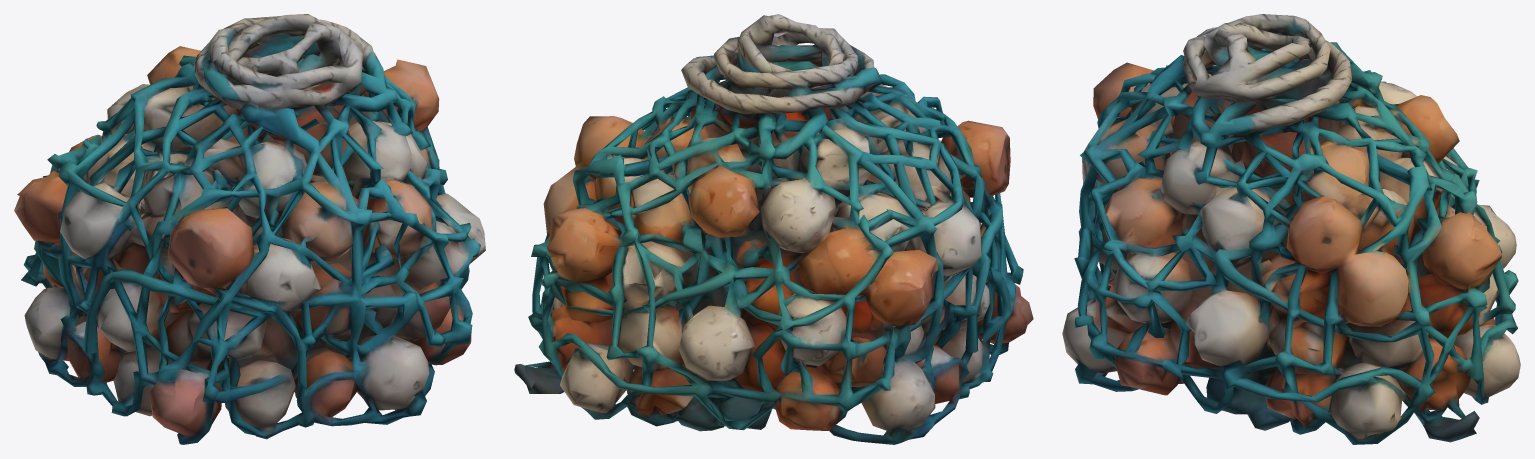
The model's file is prop-netpile.glb.
3 renders of one model, left to right at view 1: azimuth 30°, elevation 25°; view 2: azimuth 150°, elevation 25°; view 3: azimuth 270°, elevation 25°, orthographic. The views are drawn at different scales.
Parts seen in each view (by area): view 1: tripo_node_95c79bca-107b-4e08-8607-2f8d15f0101d; view 2: tripo_node_95c79bca-107b-4e08-8607-2f8d15f0101d; view 3: tripo_node_95c79bca-107b-4e08-8607-2f8d15f0101d.
Boxes of the visible parts, x1=… form: tripo_node_95c79bca-107b-4e08-8607-2f8d15f0101d: x1=14, y1=14, x2=485, y2=444; tripo_node_95c79bca-107b-4e08-8607-2f8d15f0101d: x1=514, y1=14, x2=1033, y2=444; tripo_node_95c79bca-107b-4e08-8607-2f8d15f0101d: x1=1062, y1=14, x2=1520, y2=444.
Size of the model in its own units: 1 by 0.8263 by 0.9882.
Materials: 1 (1 with a texture image).
